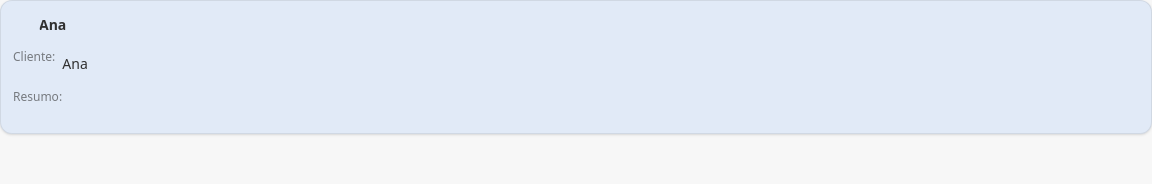
Test: page mention context › binds the board title editor to its own page
The image size is (1152, 184).
Replace the text in the dropdown named "Nome" with "@": (574, 25) 39,13 -> 1109,37
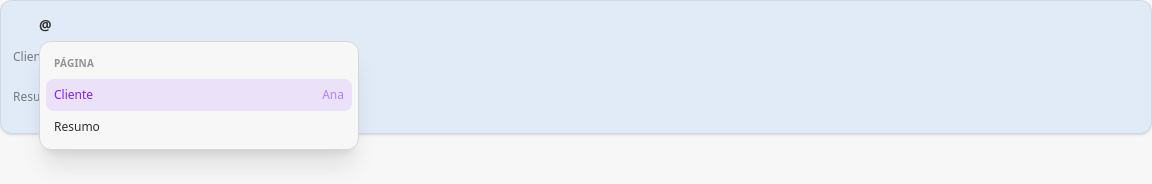
Now the option "Cliente Ana" is shown, box 46,79 -> 352,111
